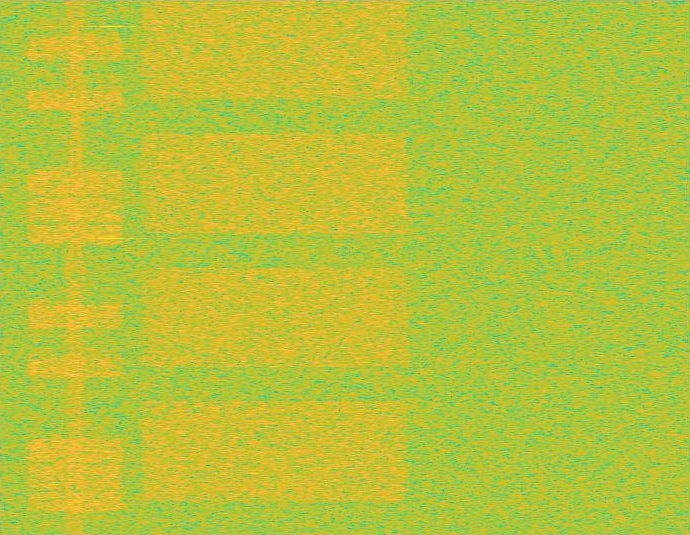5G: (137, 0, 413, 534)
DSSS: (64, 0, 87, 534)
LTE: (24, 0, 128, 534)
Radar: (105, 0, 119, 534)
